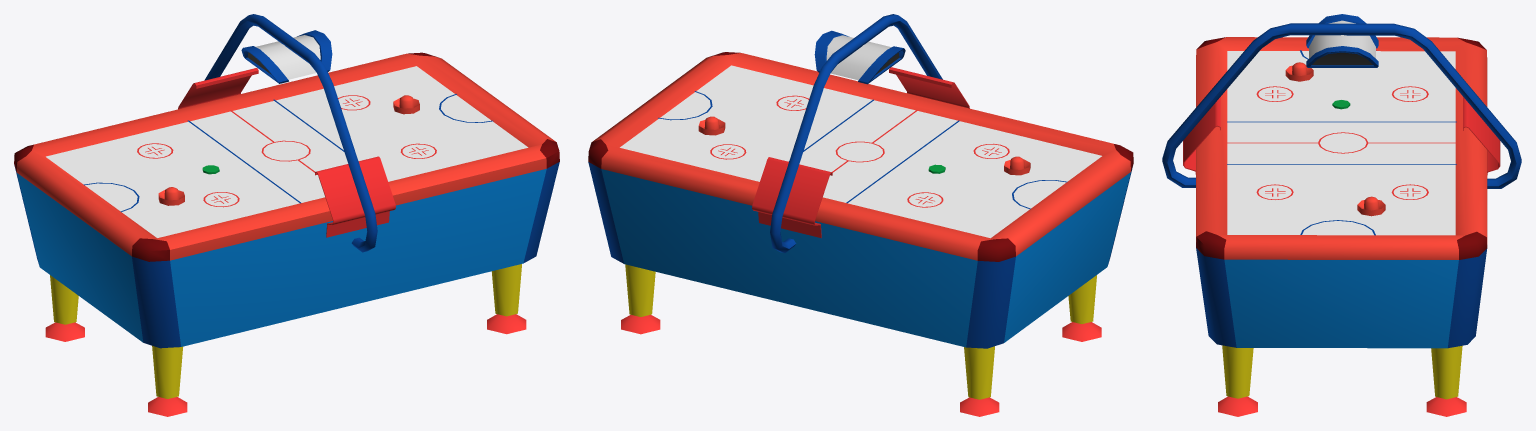
Rendered from SM_air_hockey_001.FBX.
3 renders of one model, left to right at view 1: azimuth 30°, elevation 25°; view 2: azimuth 150°, elevation 25°; view 3: azimuth 270°, elevation 25°, orthographic.
Parts seen in each view (by area): view 1: SM_air_hockey_001; view 2: SM_air_hockey_001; view 3: SM_air_hockey_001.
Part boxes in pixels (<box>): SM_air_hockey_001: <box>14,14,559,416</box>; SM_air_hockey_001: <box>588,14,1133,416</box>; SM_air_hockey_001: <box>1162,14,1521,416</box>.
Bounding box in the file's own units: 206 × 148 × 135.
